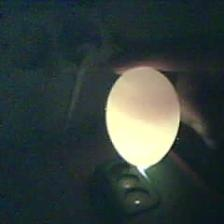infertile: (102, 63, 182, 172)
